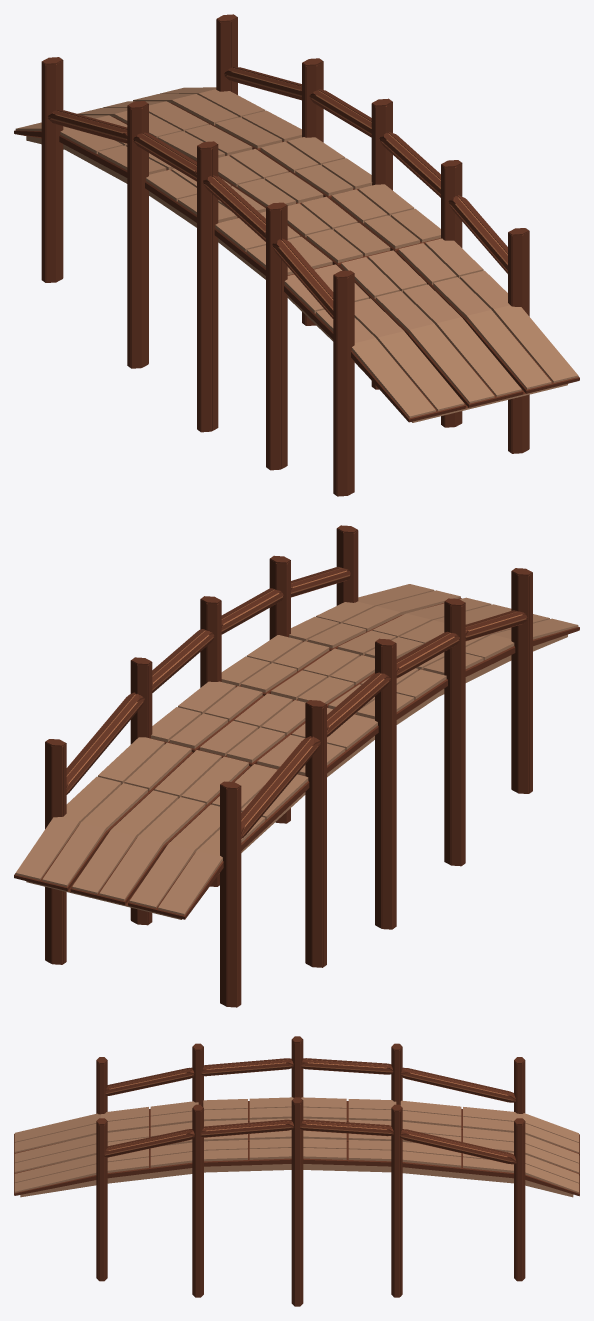
The model's file is Bridge 1.fbx.
The picture shows the model from 3 angles, top to bottom: view 1: azimuth 30°, elevation 25°; view 2: azimuth 150°, elevation 25°; view 3: azimuth 270°, elevation 25°; orthographic projection. The views are drawn at different scales.
Parts seen in each view (by area): view 1: Circle.020; view 2: Circle.020; view 3: Circle.020.
Part boxes in pixels (box(x1,y1,x2,y2)): Circle.020: box(14, 14, 579, 496); Circle.020: box(14, 525, 579, 1007); Circle.020: box(14, 1036, 579, 1306).
Size of the model in its own units: 251 by 353 by 890.
